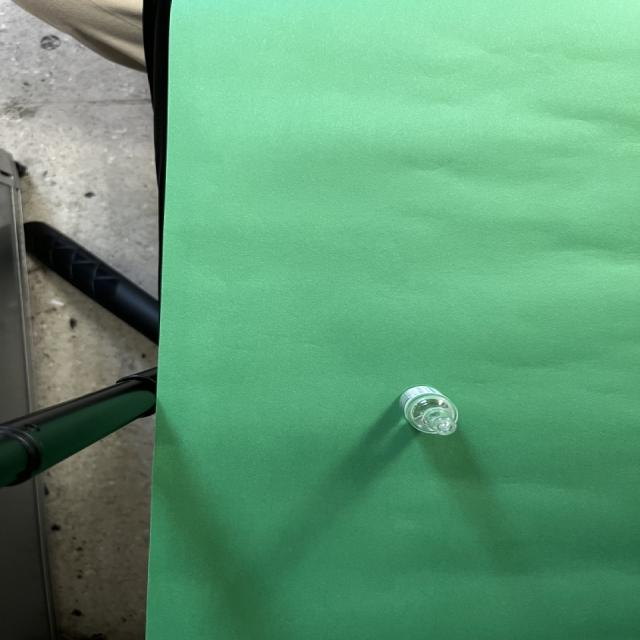Ampoules: (399, 386, 458, 436)
